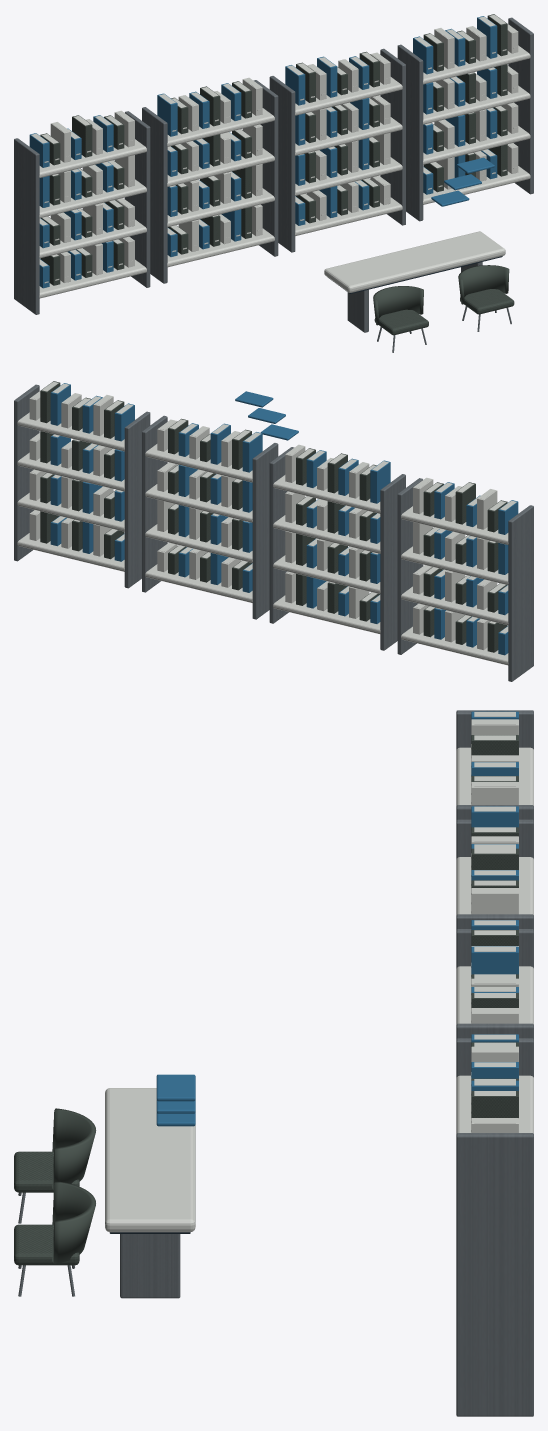
Rendered from resources.glb.
3 views of the same model, one above another, from view 1: azimuth 30°, elevation 25°; view 2: azimuth 150°, elevation 25°; view 3: azimuth 270°, elevation 25° (orthographic). The views are drawn at different scales.
Visible parts, largest first — view 1: Static_resources; view 2: Static_resources, Float_Knowledge2, Float_Knowledge1, Float_Knowledge0; view 3: Static_resources, Float_Knowledge2.
Boxes of the visible parts, x1,y1,x2,y2 form: Static_resources: [14, 14, 533, 352]; Static_resources: [14, 381, 533, 681]; Float_Knowledge2: [235, 391, 273, 407]; Float_Knowledge1: [248, 408, 285, 423]; Float_Knowledge0: [260, 424, 298, 440]; Static_resources: [14, 710, 533, 1416]; Float_Knowledge2: [156, 1074, 195, 1101].
Size of the model in its own units: 11.7 by 3.99 by 6.03.
6 materials, 2 textured.
